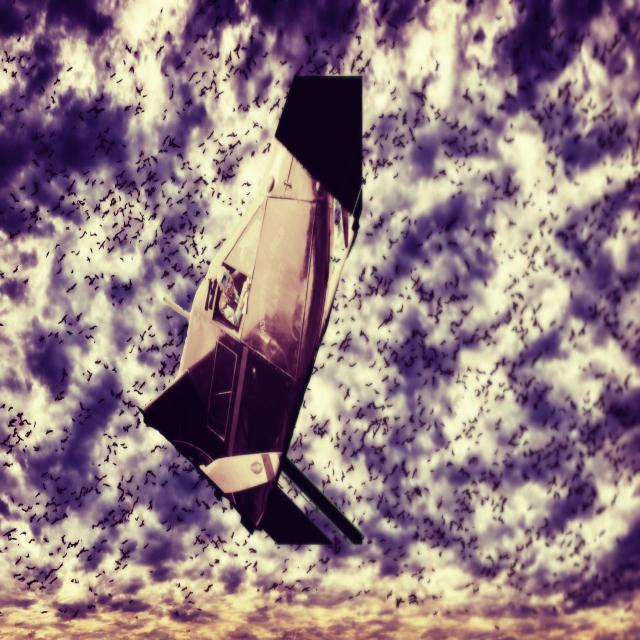airplane: (140, 70, 365, 548)
